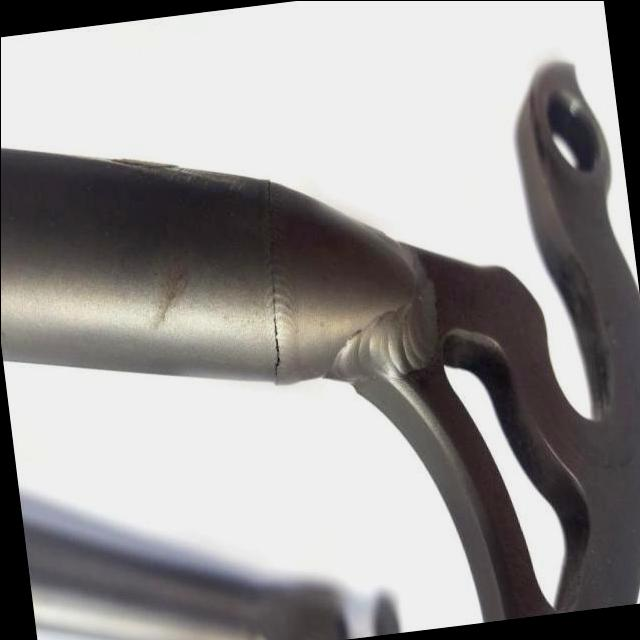defect: (267, 176, 280, 389)
